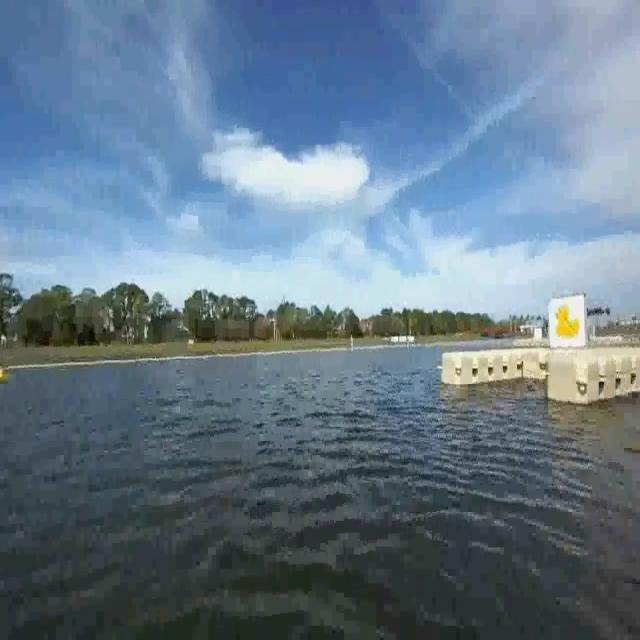yellow-buoy: (0, 366, 9, 384)
yellow-duck: (553, 298, 582, 337)
